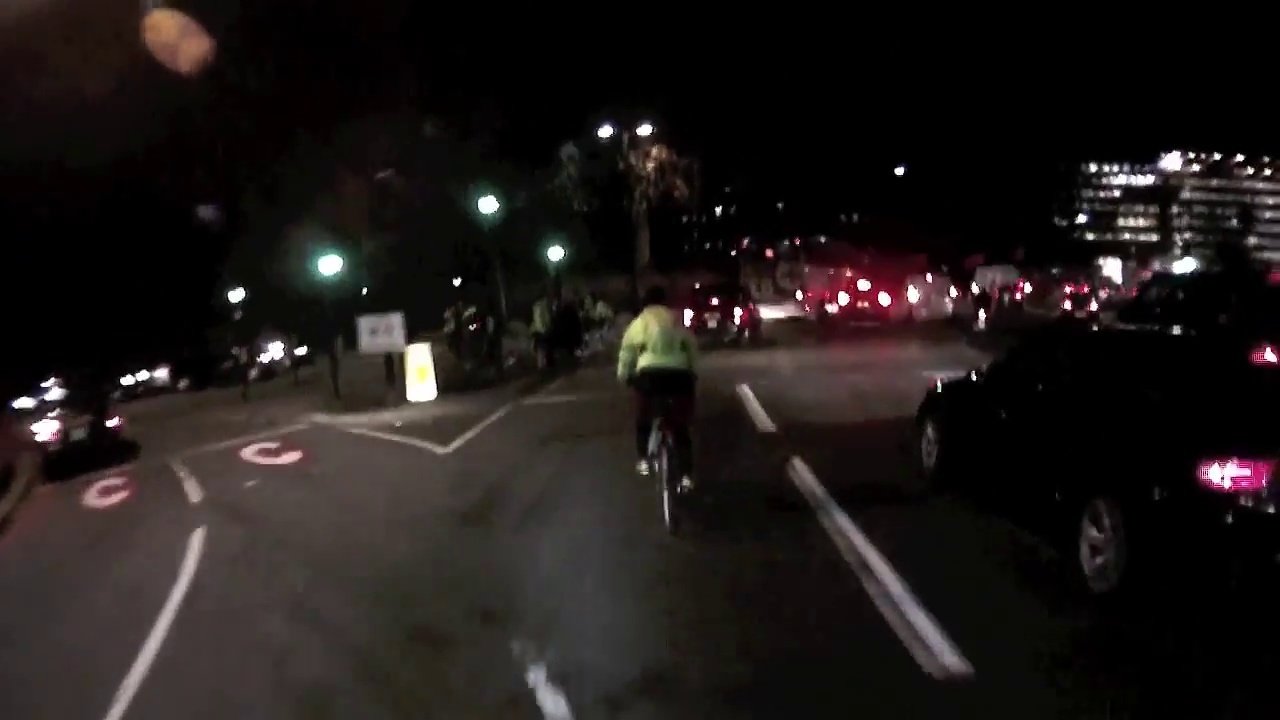cyclist_back: (616, 291, 708, 536)
